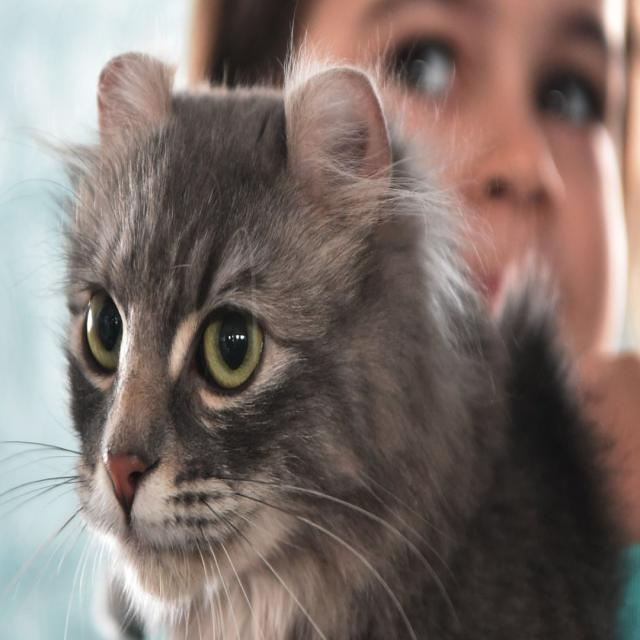American Curl: (53, 45, 637, 640)
